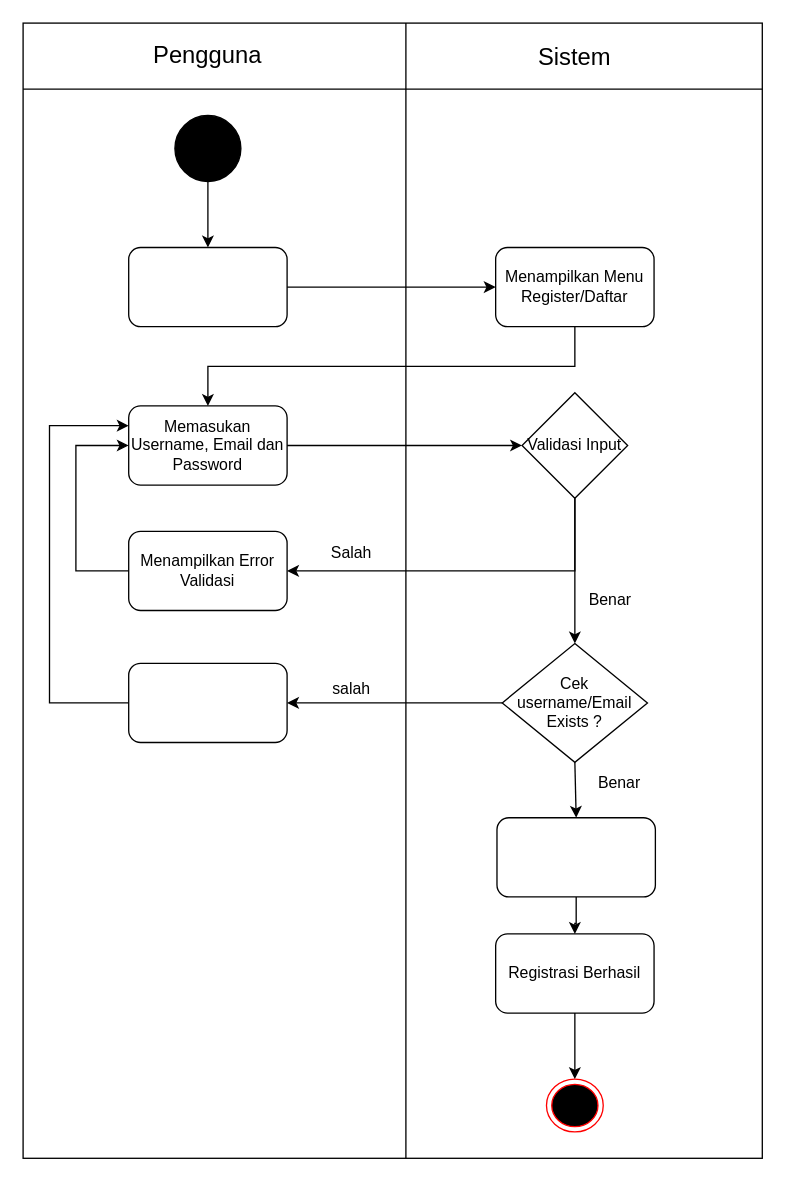
This 785x1181 diagram has some shape labels left out. The centre of each missing label's shape, as x and y in pixels:
Membuka Halaman Registrasi/Daftar: pixel 207 286
Menampilkan Error Exist: pixel 207 702
Simpan ke database: pixel 575 856
